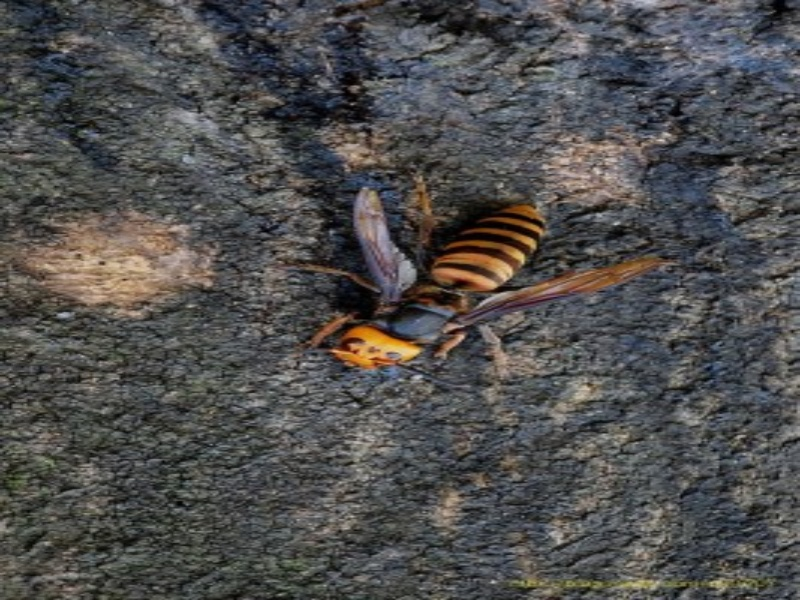asian_giant_hornet: (294, 183, 623, 386)
